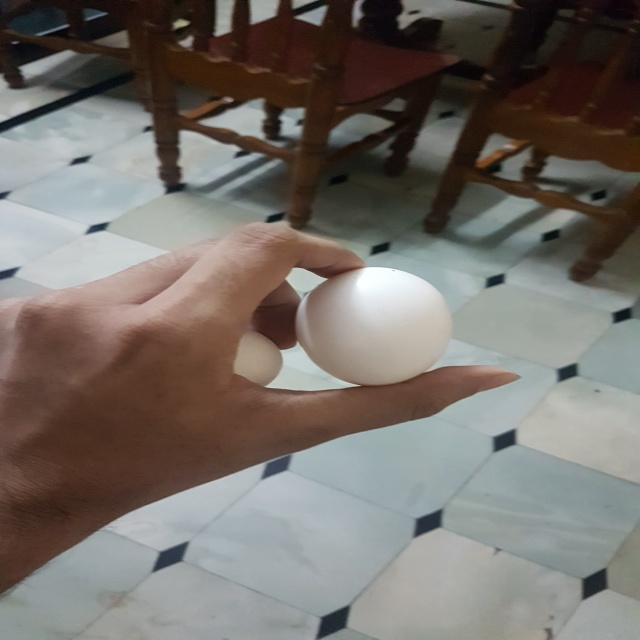eggs: (283, 252, 459, 395)
